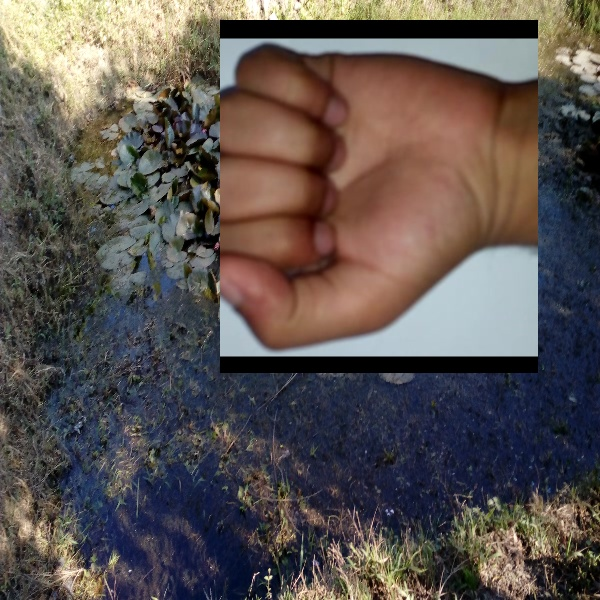A: (220, 20, 538, 373)
